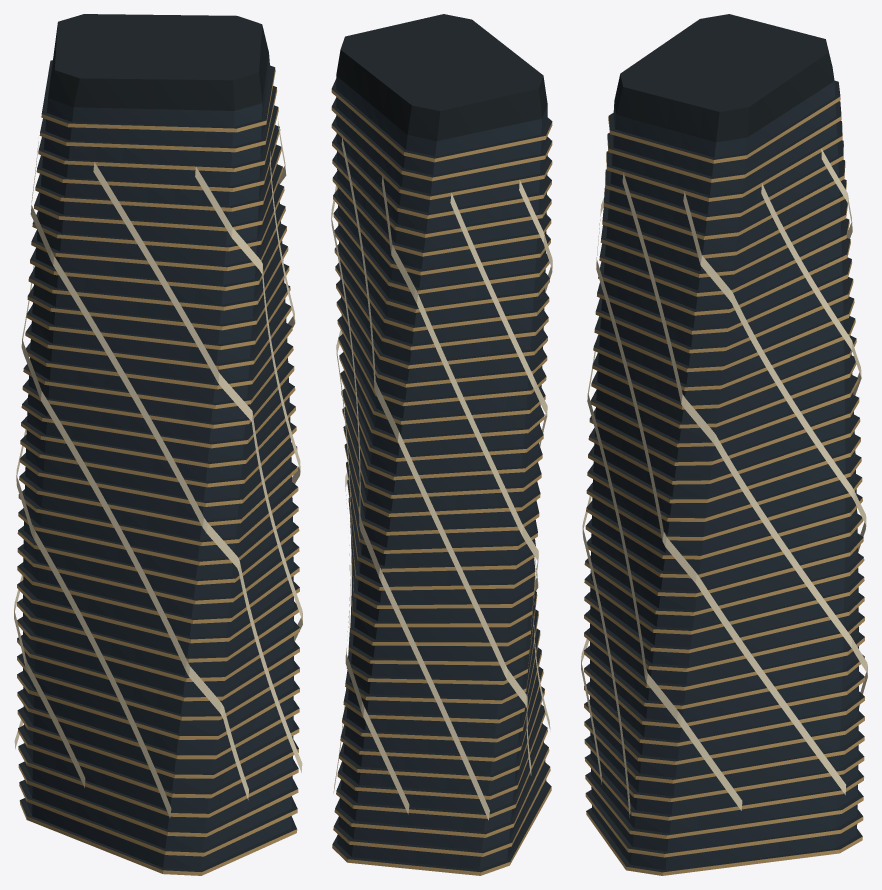
The model's file is one-galle-face-3.glb.
3 views of the same model, side by side, from view 1: azimuth 30°, elevation 25°; view 2: azimuth 150°, elevation 25°; view 3: azimuth 270°, elevation 25° (orthographic).
Size of the model in its own units: 51.51 by 164 by 55.76.
